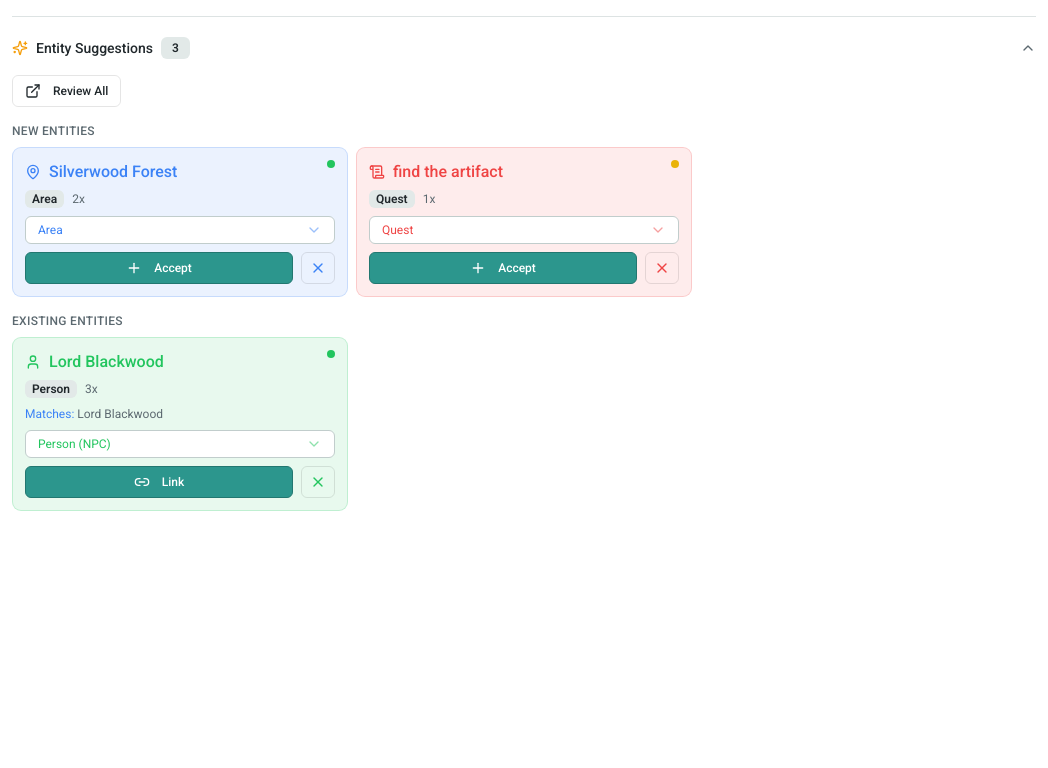
EntitySuggestionsPanel › link existing entity (PRD-047) › undo deletes the backlink and reverts the row to actionable
Click the button "Link" at (159, 482), box [25, 466, 293, 498]
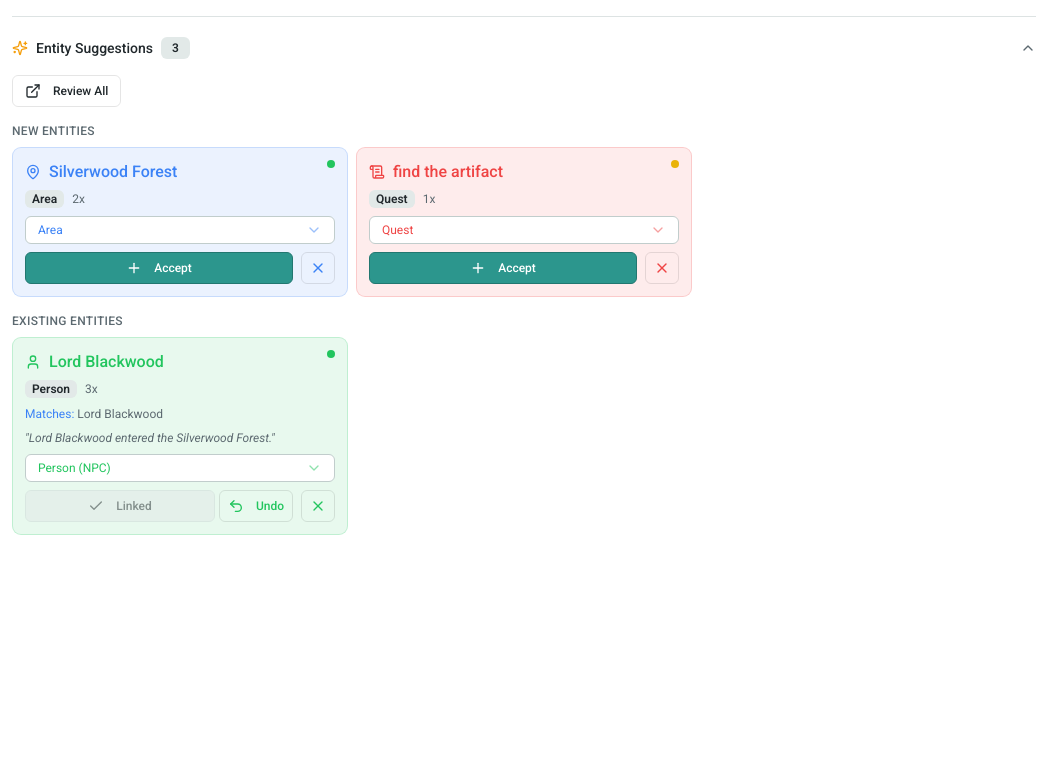
Click the button "Undo" at (256, 506), box [219, 490, 293, 522]
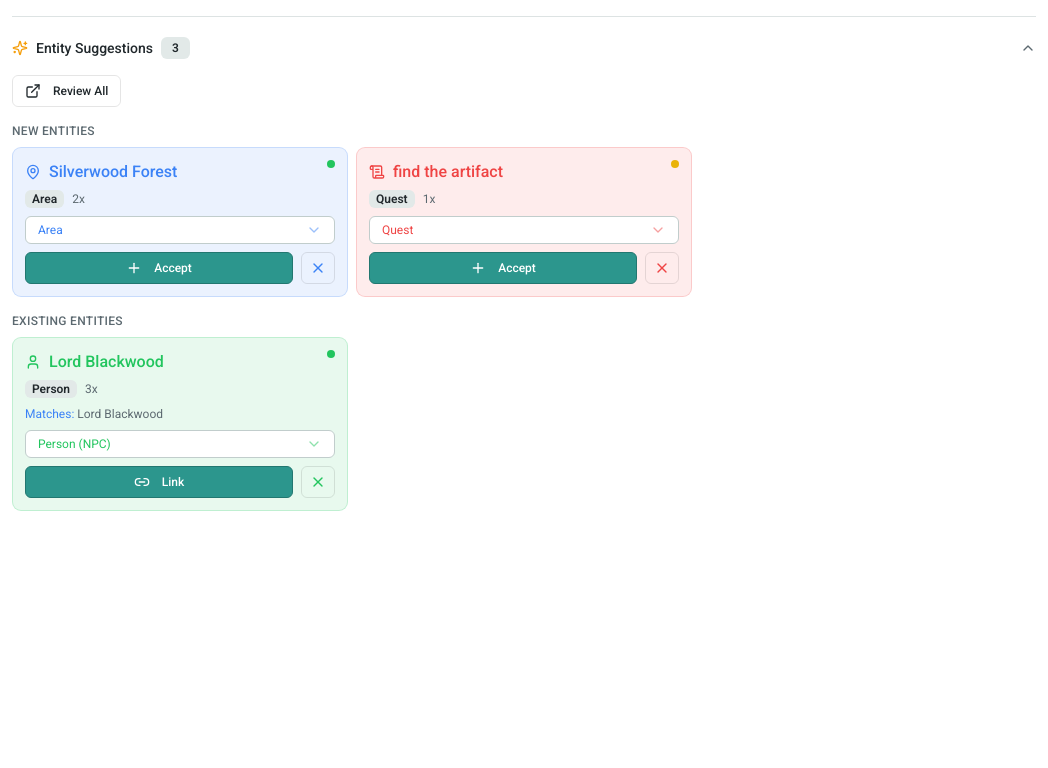
Check: the button "Link" is shown, box [25, 466, 293, 498]
Check: the button "Linked" is gone
